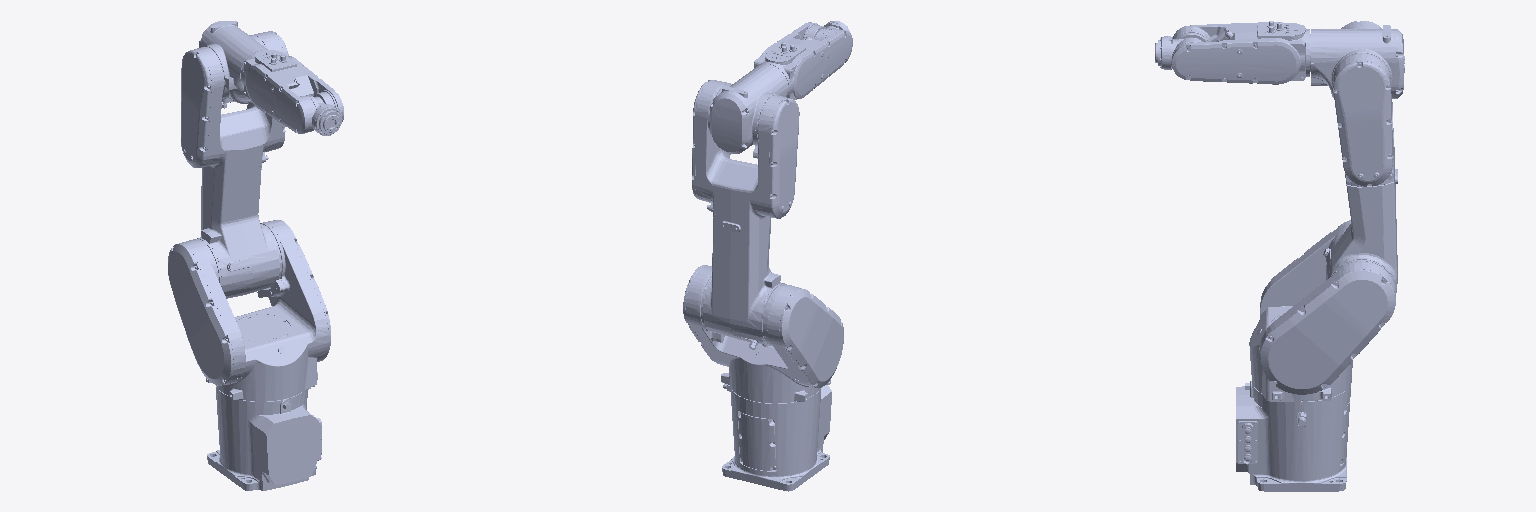
The robot description file, URDF, robot "irb1300_urdf":
<?xml version="1.0" encoding="utf-8"?>
<!-- This URDF was automatically created by SolidWorks to URDF Exporter! Originally created by [author] ([email redacted]) 
     Commit Version: 1.6.0-1-g15f4949  Build Version: 1.6.7594.29634
     For more information, please see http://wiki.ros.org/sw_urdf_exporter -->
<robot
  name="irb1300_urdf">
  <link
    name="base_link">
    <inertial>
      <origin
        xyz="0.000621145757464662 -0.0191167178129652 0.1288762236362"
        rpy="0 0 0" />
      <mass
        value="12.7958115863813" />
      <inertia
        ixx="0.132235134310548"
        ixy="0.000736266728186242"
        ixz="-0.000151469068089352"
        iyy="0.108836102611415"
        iyz="-0.00332338671377046"
        izz="0.10959727423859" />
    </inertial>
    <visual>
      <origin
        xyz="0 0 0"
        rpy="0 0 0" />
      <geometry>
        <mesh
          filename="package://irb1300_urdf/meshes/base_link.STL" />
      </geometry>
      <material
        name="">
        <color
          rgba="0.792156862745098 0.819607843137255 0.933333333333333 1" />
      </material>
    </visual>
    <collision>
      <origin
        xyz="0 0 0"
        rpy="0 0 0" />
      <geometry>
        <mesh
          filename="package://irb1300_urdf/meshes/base_link.STL" />
      </geometry>
    </collision>
  </link>
  <link
    name="link2">
    <inertial>
      <origin
        xyz="0.000781970953534425 0.0379216854369867 0.14589049021868"
        rpy="0 0 0" />
      <mass
        value="16.3350550224821" />
      <inertia
        ixx="0.221252652479998"
        ixy="-0.0253129217191553"
        ixz="-0.0493414690861258"
        iyy="0.2034430774921"
        iyz="-0.0602169693339151"
        izz="0.187105673196977" />
    </inertial>
    <visual>
      <origin
        xyz="0 0 0"
        rpy="0 0 0" />
      <geometry>
        <mesh
          filename="package://irb1300_urdf/meshes/link2.STL" />
      </geometry>
      <material
        name="">
        <color
          rgba="0.792156862745098 0.819607843137255 0.933333333333333 1" />
      </material>
    </visual>
    <collision>
      <origin
        xyz="0 0 0"
        rpy="0 0 0" />
      <geometry>
        <mesh
          filename="package://irb1300_urdf/meshes/link2.STL" />
      </geometry>
    </collision>
  </link>
  <joint
    name="joint2"
    type="revolute">
    <origin
      xyz="0 0 0.254"
      rpy="0 0 0" />
    <parent
      link="base_link" />
    <child
      link="link2" />
    <axis
      xyz="0 0 1" />
    <limit
      lower="-3.14"
      upper="3.14"
      effort="200"
      velocity="2.5" />
  </joint>
  <link
    name="link3">
    <inertial>
      <origin
        xyz="0.244984839405916 -0.0109429889730548 0.00216632330180744"
        rpy="0 0 0" />
      <mass
        value="15.444587868167" />
      <inertia
        ixx="0.103325975284501"
        ixy="0.00290256653000314"
        ixz="-0.00597098606992484"
        iyy="0.7470165301469"
        iyz="7.09380128519874E-05"
        izz="0.69311713394874" />
    </inertial>
    <visual>
      <origin
        xyz="0 0 0"
        rpy="0 0 0" />
      <geometry>
        <mesh
          filename="package://irb1300_urdf/meshes/link3.STL" />
      </geometry>
      <material
        name="">
        <color
          rgba="0.792156862745098 0.819607843137255 0.933333333333333 1" />
      </material>
    </visual>
    <collision>
      <origin
        xyz="0 0 0"
        rpy="0 0 0" />
      <geometry>
        <mesh
          filename="package://irb1300_urdf/meshes/link3.STL" />
      </geometry>
    </collision>
  </link>
  <joint
    name="joint3"
    type="revolute">
    <origin
      xyz="0.003 0.15 0.29"
      rpy="3.1416 -1.5708 0" />
    <parent
      link="link2" />
    <child
      link="link3" />
    <axis
      xyz="0 0 -1" />
    <limit
      lower="-1.57"
      upper="1.57"
      effort="150"
      velocity="2.5" />
  </joint>
  <link
    name="link4">
    <inertial>
      <origin
        xyz="0.0113948235550398 0.00582829206622695 0.00213763034924455"
        rpy="0 0 0" />
      <mass
        value="4.42113271544905" />
      <inertia
        ixx="0.0225851030856549"
        ixy="-0.00154817237021676"
        ixz="-0.000109622498232435"
        iyy="0.0148332660441401"
        iyz="3.48622385556433E-06"
        izz="0.0259244413326896" />
    </inertial>
    <visual>
      <origin
        xyz="0 0 0"
        rpy="0 0 0" />
      <geometry>
        <mesh
          filename="package://irb1300_urdf/meshes/link4.STL" />
      </geometry>
      <material
        name="">
        <color
          rgba="0.792156862745098 0.819607843137255 0.933333333333333 1" />
      </material>
    </visual>
    <collision>
      <origin
        xyz="0 0 0"
        rpy="0 0 0" />
      <geometry>
        <mesh
          filename="package://irb1300_urdf/meshes/link4.STL" />
      </geometry>
    </collision>
  </link>
  <joint
    name="joint4"
    type="revolute">
    <origin
      xyz="0.575 0 -0.0005"
      rpy="0 0 0" />
    <parent
      link="link3" />
    <child
      link="link4" />
    <axis
      xyz="0 0 1" />
    <limit
      lower="-1.57"
      upper="1.57"
      effort="100"
      velocity="2.5" />
  </joint>
  <link
    name="link5">
    <inertial>
      <origin
        xyz="0.00130602883752995 0.00136558209784506 0.13875745724306"
        rpy="0 0 0" />
      <mass
        value="3.69533574836707" />
      <inertia
        ixx="0.0294618039113053"
        ixy="6.97583012063044E-05"
        ixz="0.000216943366165848"
        iyy="0.0307697285396464"
        iyz="-0.00226689683514871"
        izz="0.00621145958804586" />
    </inertial>
    <visual>
      <origin
        xyz="0 0 0"
        rpy="0 0 0" />
      <geometry>
        <mesh
          filename="package://irb1300_urdf/meshes/link5.STL" />
      </geometry>
      <material
        name="">
        <color
          rgba="0.792156862745098 0.819607843137255 0.933333333333333 1" />
      </material>
    </visual>
    <collision>
      <origin
        xyz="0 0 0"
        rpy="0 0 0" />
      <geometry>
        <mesh
          filename="package://irb1300_urdf/meshes/link5.STL" />
      </geometry>
    </collision>
  </link>
  <joint
    name="joint5"
    type="revolute">
    <origin
      xyz="0.04 0.1295 0.0035"
      rpy="-1.5708 0 0" />
    <parent
      link="link4" />
    <child
      link="link5" />
    <axis
      xyz="0 0 1" />
    <limit
      lower="-3.14"
      upper="3.14"
      effort="50"
      velocity="3" />
  </joint>
  <link
    name="link6">
    <inertial>
      <origin
        xyz="5.87680451527017E-05 -0.0206026091450402 0.00304117801177027"
        rpy="0 0 0" />
      <mass
        value="0.586394320686696" />
      <inertia
        ixx="0.000727536406890439"
        ixy="-2.01006232291121E-06"
        ixz="-1.05900110476136E-07"
        iyy="0.000494380145771095"
        iyz="6.2466184181307E-05"
        izz="0.000784305968232733" />
    </inertial>
    <visual>
      <origin
        xyz="0 0 0"
        rpy="0 0 0" />
      <geometry>
        <mesh
          filename="package://irb1300_urdf/meshes/link6.STL" />
      </geometry>
      <material
        name="">
        <color
          rgba="0.792156862745098 0.819607843137255 0.933333333333333 1" />
      </material>
    </visual>
    <collision>
      <origin
        xyz="0 0 0"
        rpy="0 0 0" />
      <geometry>
        <mesh
          filename="package://irb1300_urdf/meshes/link6.STL" />
      </geometry>
    </collision>
  </link>
  <joint
    name="joint6"
    type="revolute">
    <origin
      xyz="0 -0.0119 0.2955"
      rpy="-1.5708 0 0" />
    <parent
      link="link5" />
    <child
      link="link6" />
    <axis
      xyz="0 0 -1" />
    <limit
      lower="-1.57"
      upper="1.57"
      effort="20"
      velocity="3" />
  </joint>
  <link
    name="link7">
    <inertial>
      <origin
        xyz="-0.000141388062541159 -7.71902909234451E-05 -3.97653842331147E-05"
        rpy="0 0 0" />
      <mass
        value="0.0079003201256149" />
      <inertia
        ixx="1.59968258334026E-06"
        ixy="-1.16947500499597E-08"
        ixz="4.44183698557043E-11"
        iyy="1.51446478201549E-06"
        iyz="2.42500450632137E-11"
        izz="3.0677521776341E-06" />
    </inertial>
    <visual>
      <origin
        xyz="0 0 0"
        rpy="0 0 0" />
      <geometry>
        <mesh
          filename="package://irb1300_urdf/meshes/link7.STL" />
      </geometry>
      <material
        name="">
        <color
          rgba="0.792156862745098 0.819607843137255 0.933333333333333 1" />
      </material>
    </visual>
    <collision>
      <origin
        xyz="0 0 0"
        rpy="0 0 0" />
      <geometry>
        <mesh
          filename="package://irb1300_urdf/meshes/link7.STL" />
      </geometry>
    </collision>
  </link>
  <joint
    name="joint7"
    type="revolute">
    <origin
      xyz="0 -0.087 0.0119"
      rpy="1.5708 0 0" />
    <parent
      link="link6" />
    <child
      link="link7" />
    <axis
      xyz="0 0 -1" />
    <limit
      lower="-3.14"
      upper="3.14"
      effort="20"
      velocity="4" />
  </joint>
</robot>

--- Facts derived from the render (not from the file) ---
Views: 3 orthographic renders of the robot side by side, from view 1: azimuth 30°, elevation 25°; view 2: azimuth 150°, elevation 25°; view 3: azimuth 270°, elevation 25°.
Robot: irb1300_urdf — 7 links, 6 joints (6 revolute); root link base_link; default pose: every joint at zero.
Visible links, largest first — view 1: link2, link3, base_link, link5, link4, link6; view 2: link3, link2, base_link, link4, link5; view 3: link2, link3, base_link, link5, link4, link6.
Link boxes in pixels (box(x1,y1,x2,y2)): link2: box(168, 220, 330, 401); link3: box(181, 31, 288, 298); base_link: box(207, 386, 321, 490); link5: box(241, 50, 343, 133); link4: box(199, 21, 267, 108); link6: box(307, 90, 342, 135); link3: box(692, 80, 799, 349); link2: box(683, 265, 843, 403); base_link: box(722, 383, 831, 491); link4: box(710, 64, 788, 153); link5: box(754, 22, 852, 99); link2: box(1249, 220, 1395, 401); link3: box(1323, 21, 1397, 292); base_link: box(1236, 381, 1351, 491); link5: box(1172, 21, 1309, 84); link4: box(1310, 25, 1404, 98); link6: box(1158, 33, 1207, 69).
Bounding box of the posed robot: 0.34 × 0.6215 × 1.26 m (x, y, z).
Meshes: 7 distinct files referenced, 7 mesh visuals loaded (7 binary STL).